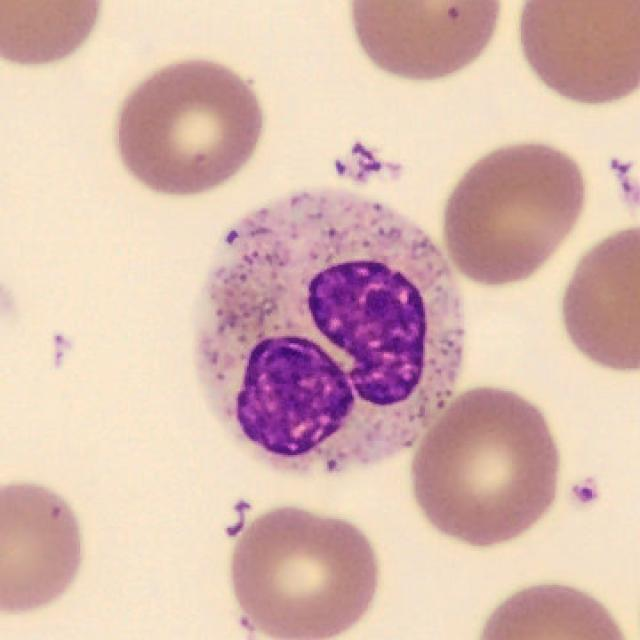Neutrofilo segmentado: (192, 188, 466, 471)
